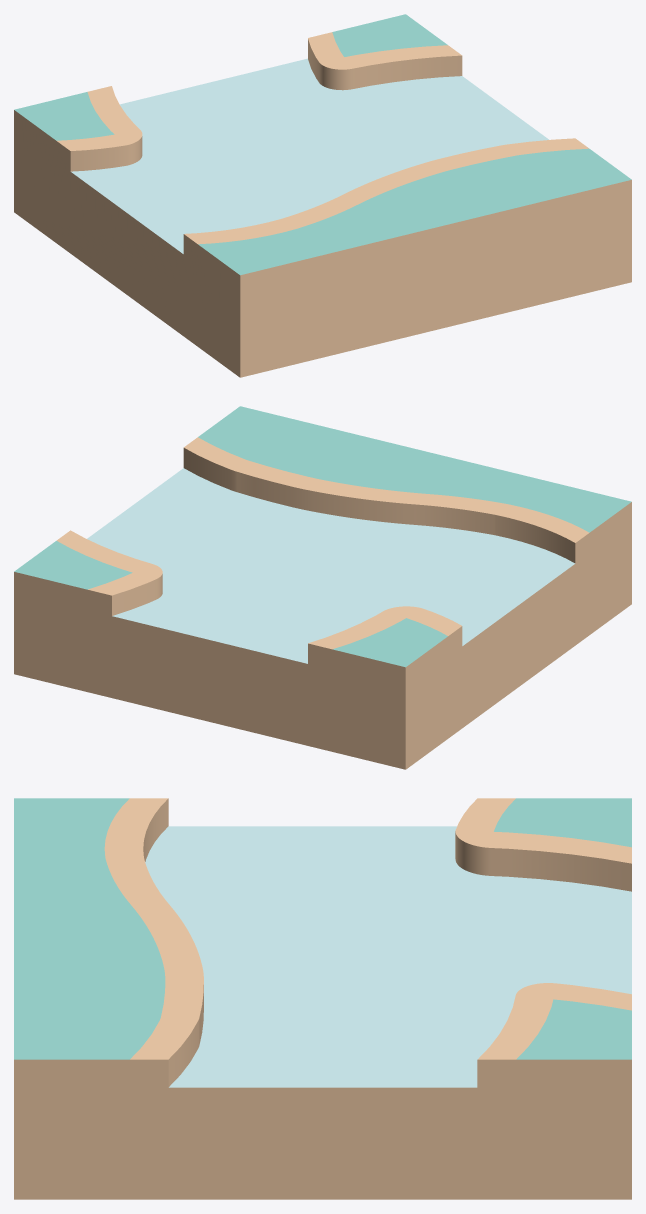
The model's file is ground_dirtRiverT.glb.
3 views of the same model, one above another, from view 1: azimuth 30°, elevation 25°; view 2: azimuth 150°, elevation 25°; view 3: azimuth 270°, elevation 25° (orthographic). The views are drawn at different scales.
Visible parts, largest first — view 1: ground_dirtRiverT; view 2: ground_dirtRiverT; view 3: ground_dirtRiverT.
Boxes of the visible parts, bbox=[...] form: ground_dirtRiverT: bbox=[14, 14, 631, 377]; ground_dirtRiverT: bbox=[14, 406, 631, 769]; ground_dirtRiverT: bbox=[14, 798, 631, 1199].
Size of the model in its own units: 10 by 2.5 by 10.
